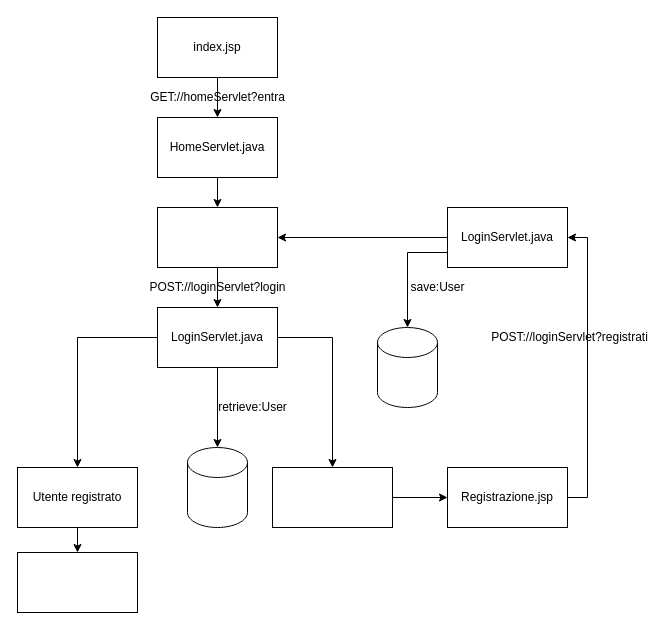
This 672x630 diagram has some shape labels left out. The shapes that lost their labels are listed below. From the top down, each one's box as (x1, y1, x2, y2) in pixels, then its label:
(156, 206, 278, 268): Login.jsp
(272, 466, 392, 528): Utente non registrato
(16, 552, 138, 612): Home.jsp
